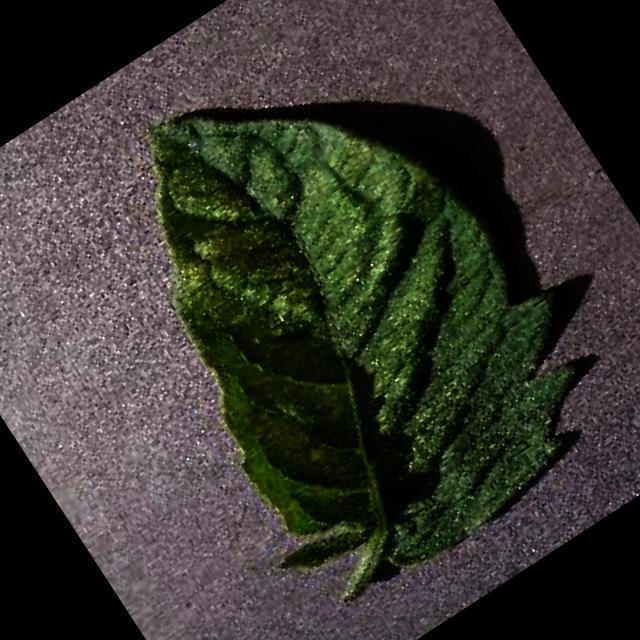Tomato spider mites leaf: (59, 0, 637, 620)
